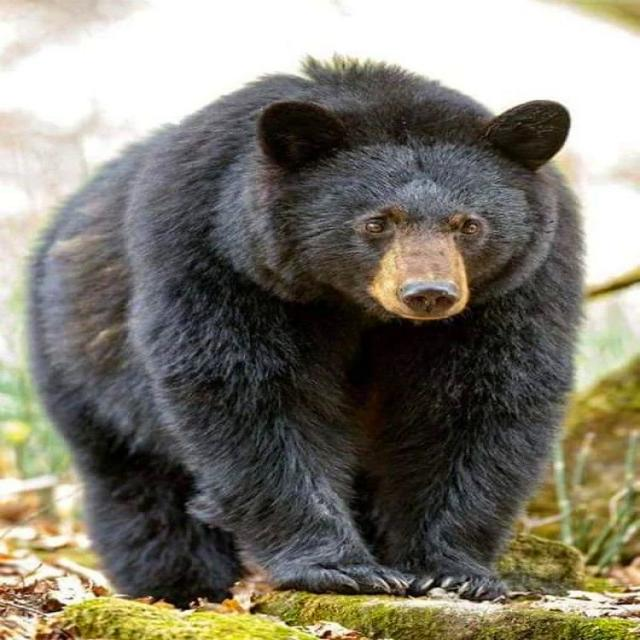bear: (28, 58, 581, 605)
